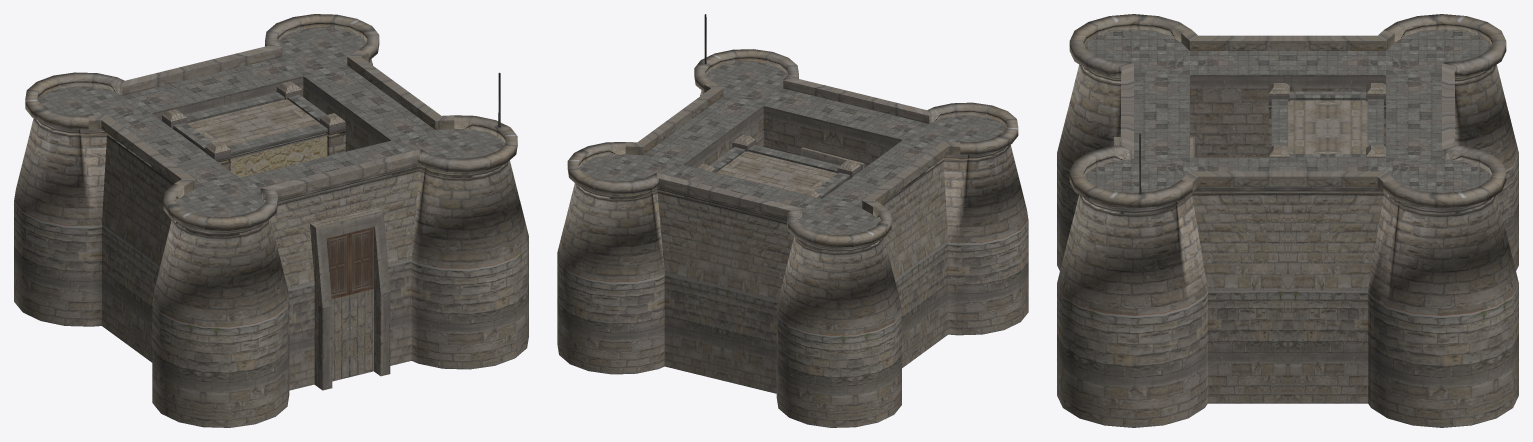
Rendered from fort.dae.
The picture shows the model from 3 angles, left to right: view 1: azimuth 30°, elevation 25°; view 2: azimuth 150°, elevation 25°; view 3: azimuth 270°, elevation 25°; orthographic projection. The views are drawn at different scales.
Parts seen in each view (by area): view 1: Fort; view 2: Fort; view 3: Fort.
Boxes of the visible parts, x1=… form: Fort: x1=14, y1=14, x2=528, y2=427; Fort: x1=557, y1=14, x2=1028, y2=427; Fort: x1=1057, y1=14, x2=1518, y2=427.
Size of the model in its own units: 38.62 by 38.61 by 26.37.
